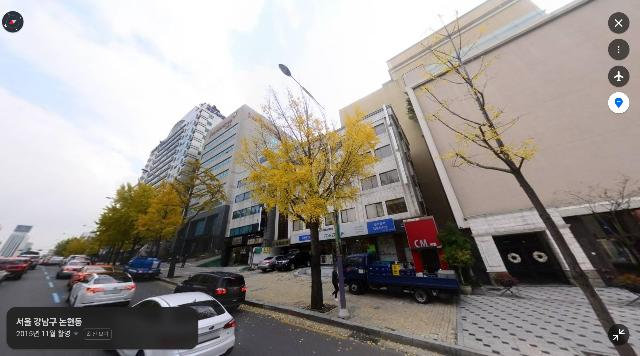ginkgo: (412, 7, 628, 356), (234, 82, 383, 312), (133, 159, 229, 279), (93, 180, 171, 267), (66, 230, 101, 260)
